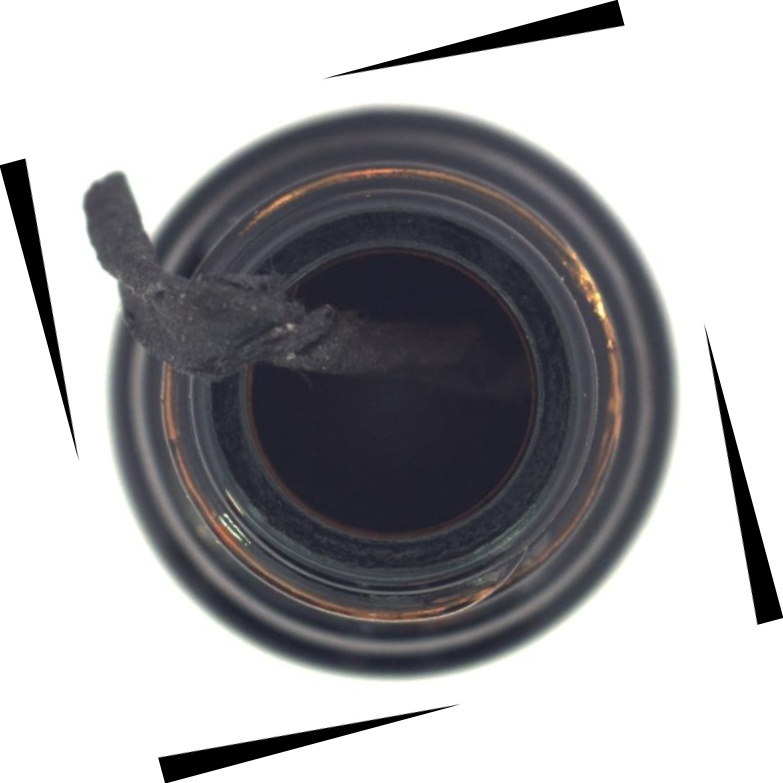bad-contamination: (41, 39, 746, 748)
